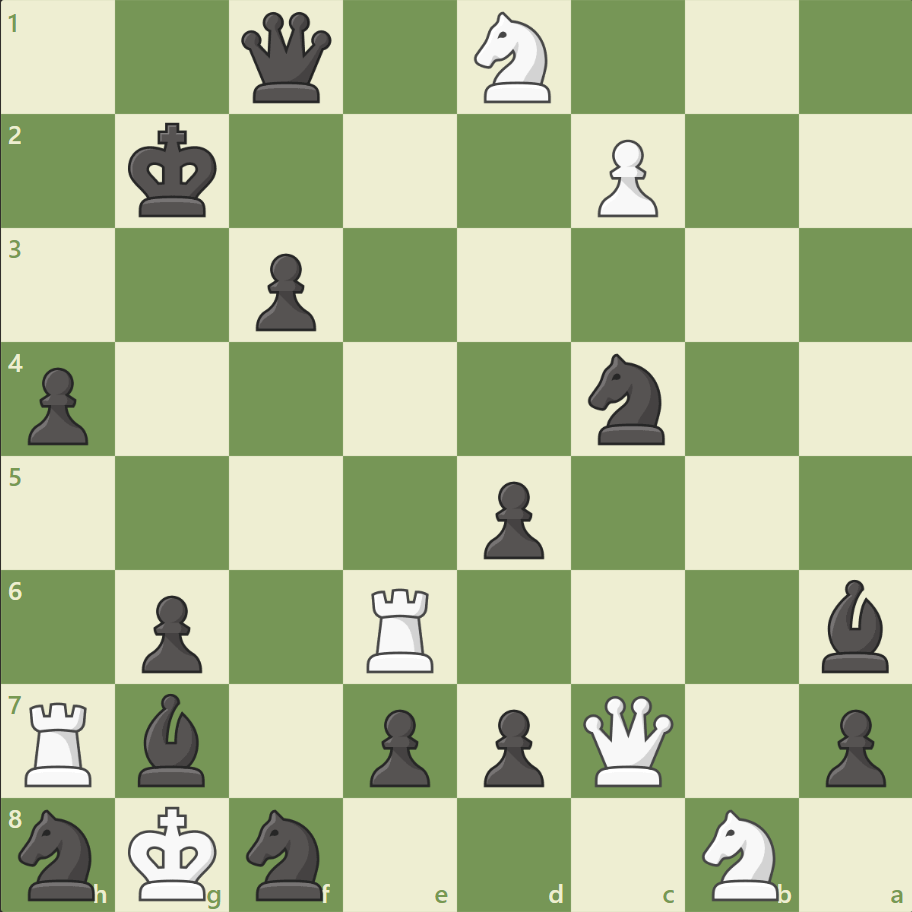K: (124, 798, 224, 906)
N: (465, 7, 562, 110), (692, 802, 789, 904)
P: (588, 132, 662, 223)
Q: (578, 690, 677, 789)
R: (19, 693, 102, 790), (360, 579, 442, 676)
b: (131, 687, 215, 790), (812, 574, 896, 676)
k: (124, 117, 224, 225)
n: (238, 802, 335, 904), (11, 802, 108, 904), (579, 348, 676, 450)
p: (474, 700, 549, 791), (133, 586, 208, 677), (474, 473, 549, 564), (20, 359, 95, 450), (247, 246, 322, 337), (815, 700, 889, 791), (361, 700, 435, 791)
q: (237, 9, 336, 108)
